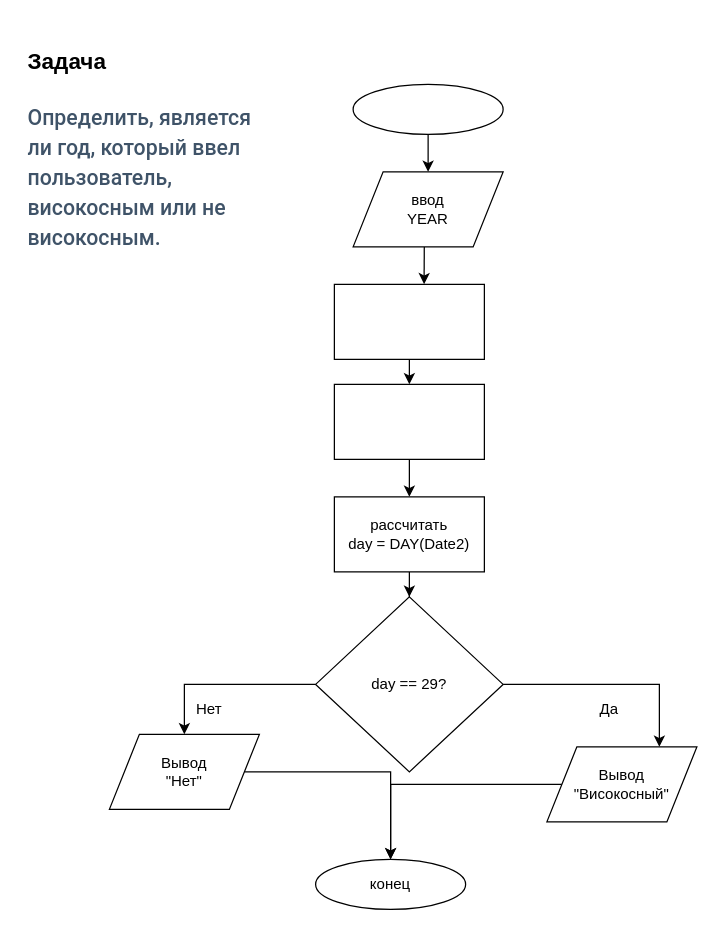
The diagram is 719 pixels wide and 931 high, and some of its shapes have lost their labels. The shapes that lost their labels are listed below. From the top down, each one's centre as x and y in pixels, then its label:
(427,108): начало
(408,321): Date1 = 01.03.YEAR
(408,421): рассчитать Date2 = Date1 - 1
